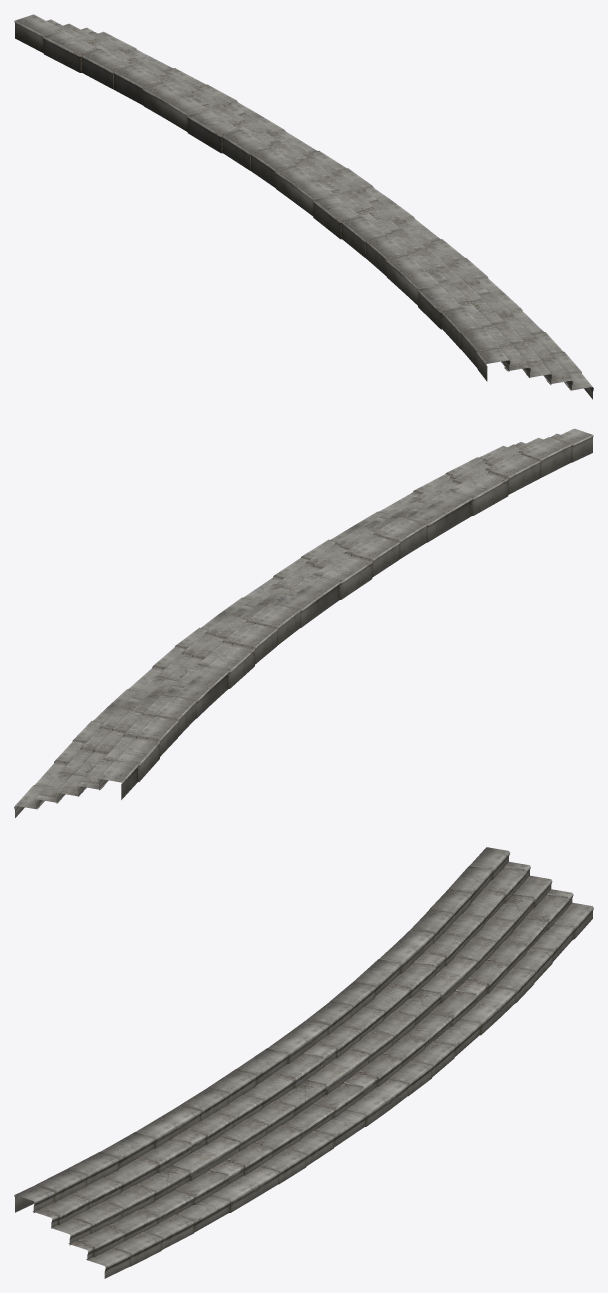
File: bg_lut_lucastle_stair02a_sm_jjy.FBX
3 renders of one model, top to bottom at view 1: azimuth 30°, elevation 25°; view 2: azimuth 150°, elevation 25°; view 3: azimuth 330°, elevation 25°, orthographic.
Parts seen in each view (by area): view 1: bg_lut_lucastle_stair02a_sm_jjy; view 2: bg_lut_lucastle_stair02a_sm_jjy; view 3: bg_lut_lucastle_stair02a_sm_jjy.
Boxes of the visible parts, <box> form: bg_lut_lucastle_stair02a_sm_jjy: <box>14,14,593,399</box>; bg_lut_lucastle_stair02a_sm_jjy: <box>14,428,593,817</box>; bg_lut_lucastle_stair02a_sm_jjy: <box>14,847,593,1278</box>.
Size of the model in its own units: 200 by 72.73 by 1186.
